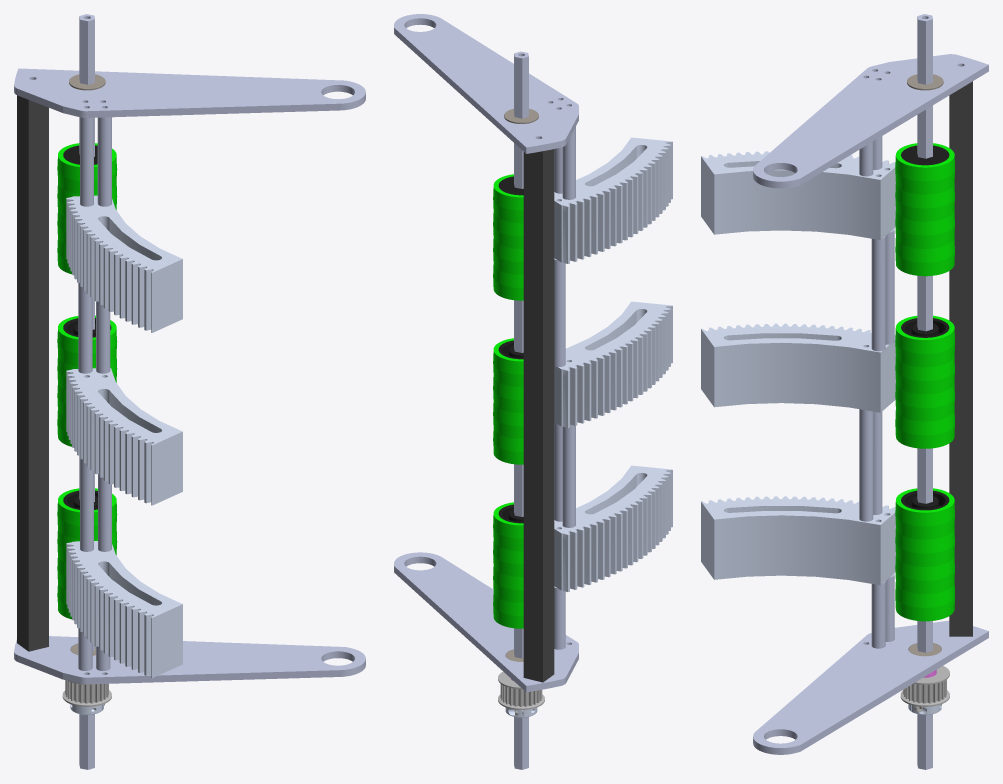
3 views of the same model, side by side, from view 1: azimuth 30°, elevation 25°; view 2: azimuth 150°, elevation 25°; view 3: azimuth 270°, elevation 25° (orthographic). The views are drawn at different scales.
Visible parts, largest first — view 1: NAUO33, NAUO23, NAUO2, NAUO5, NAUO22, NAUO3, NAUO1, NAUO12, NAUO8, NAUO21, NAUO31, NAUO25 (+5 smaller); view 2: NAUO33, NAUO23, NAUO2, NAUO5, NAUO22, NAUO3, NAUO1, NAUO27, NAUO25, NAUO8, NAUO12, NAUO21 (+13 smaller); view 3: NAUO5, NAUO2, NAUO22, NAUO23, NAUO33, NAUO3, NAUO1, NAUO21, NAUO8, NAUO12, NAUO28, NAUO11 (+14 smaller).
Boxes of the visible parts, <box> form: NAUO33: <box>17,95,48,651</box>; NAUO23: <box>14,68,365,117</box>; NAUO2: <box>66,368,182,505</box>; NAUO5: <box>66,541,182,678</box>; NAUO22: <box>66,195,182,332</box>; NAUO3: <box>14,636,365,684</box>; NAUO1: <box>79,14,94,769</box>; NAUO12: <box>57,488,117,539</box>; NAUO8: <box>57,315,117,366</box>; NAUO21: <box>57,143,117,194</box>; NAUO31: <box>97,117,111,206</box>; NAUO25: <box>78,283,92,373</box>; NAUO33: <box>523,149,554,682</box>; NAUO23: <box>394,14,578,153</box>; NAUO2: <box>554,301,672,427</box>; NAUO5: <box>554,465,672,591</box>; NAUO22: <box>554,137,672,263</box>; NAUO3: <box>394,552,578,692</box>; NAUO1: <box>514,51,528,769</box>; NAUO27: <box>562,424,575,527</box>; NAUO25: <box>554,258,565,366</box>; NAUO8: <box>493,338,523,387</box>; NAUO12: <box>493,502,523,551</box>; NAUO21: <box>493,174,523,223</box>; NAUO5: <box>701,496,895,585</box>; NAUO2: <box>701,323,895,412</box>; NAUO22: <box>701,151,895,240</box>; NAUO23: <box>753,54,988,188</box>; NAUO33: <box>949,81,972,636</box>; NAUO3: <box>753,620,988,754</box>; NAUO1: <box>917,14,932,769</box>; NAUO21: <box>895,143,954,194</box>; NAUO8: <box>895,315,954,367</box>; NAUO12: <box>895,488,954,539</box>; NAUO28: <box>871,236,885,351</box>; NAUO11: <box>895,410,954,448</box>.
Size of the model in its own units: 0.2557 by 0.7 by 0.244.
